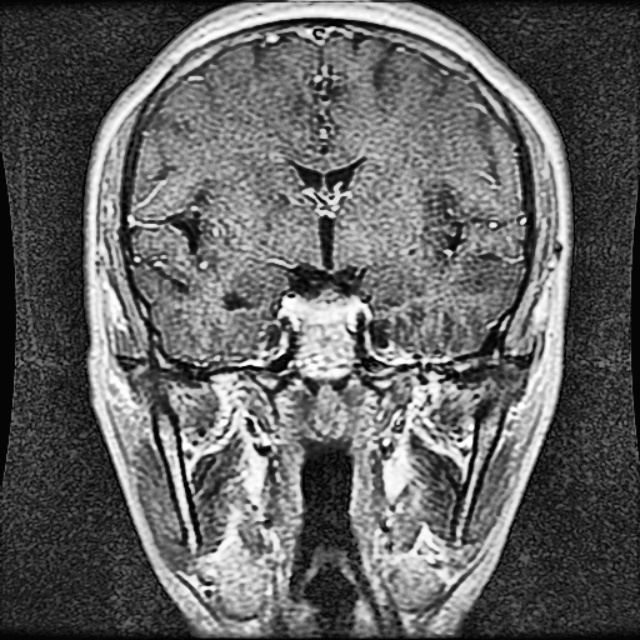Pituitary: (283, 293, 358, 325)
